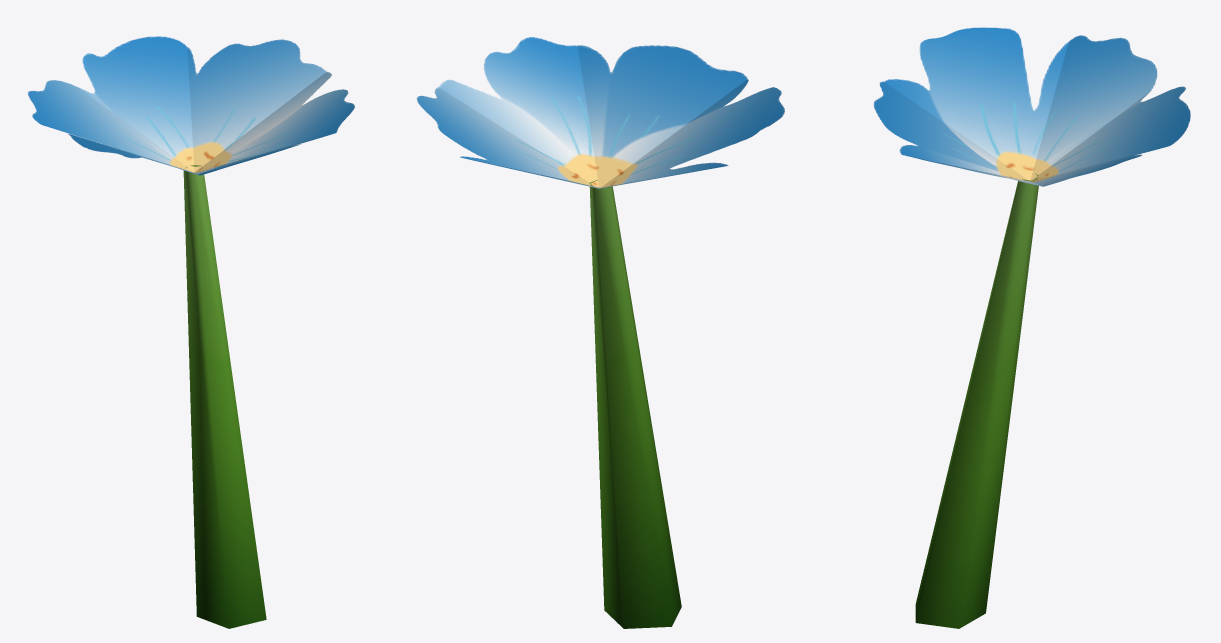
Rendered from SM_Flower7.fbx.
The picture shows the model from 3 angles, left to right: view 1: azimuth 30°, elevation 25°; view 2: azimuth 150°, elevation 25°; view 3: azimuth 270°, elevation 25°; orthographic projection. The views are drawn at different scales.
Parts seen in each view (by area): view 1: T_Grass_Flower.008, Cylinder.005; view 2: T_Grass_Flower.008, Cylinder.005; view 3: T_Grass_Flower.008, Cylinder.005.
Boxes of the visible parts, x1,y1,x2,y2 form: T_Grass_Flower.008: (27, 36, 354, 175); Cylinder.005: (183, 165, 266, 628); T_Grass_Flower.008: (416, 37, 784, 188); Cylinder.005: (589, 180, 681, 628); T_Grass_Flower.008: (873, 27, 1190, 186); Cylinder.005: (915, 173, 1038, 628).
Bounding box in the file's own units: 0.0831 × 0.1146 × 0.0721.
2 materials, 2 textured.
